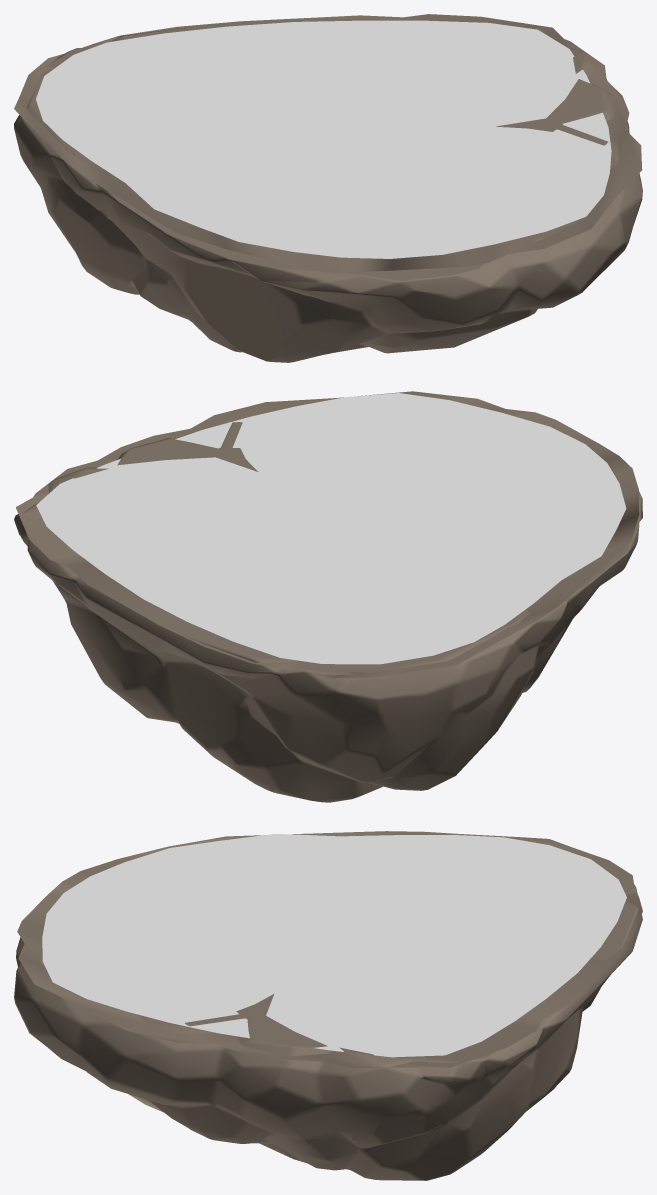
File: IlhaP3.fbx
The picture shows the model from 3 angles, top to bottom: view 1: azimuth 30°, elevation 25°; view 2: azimuth 150°, elevation 25°; view 3: azimuth 270°, elevation 25°; orthographic projection. The views are drawn at different scales.
Visible parts, largest first — view 1: IlhaP3Grama, IlhaP3, IlhaP3Colisor; view 2: IlhaP3Grama, IlhaP3, IlhaP3Colisor; view 3: IlhaP3Grama, IlhaP3, IlhaP3Colisor.
Boxes of the visible parts, x1,y1,x2,y2 form: IlhaP3Grama: (36,20,611,258); IlhaP3: (14,24,642,362); IlhaP3Colisor: (14,14,642,271); IlhaP3Grama: (36,393,626,664); IlhaP3: (14,422,642,802); IlhaP3Colisor: (16,391,639,678); IlhaP3Grama: (42,834,626,1057); IlhaP3: (14,842,642,1180); IlhaP3Colisor: (17,831,642,1067).
Bounding box in the file's own units: 1140 × 443 × 1262.
